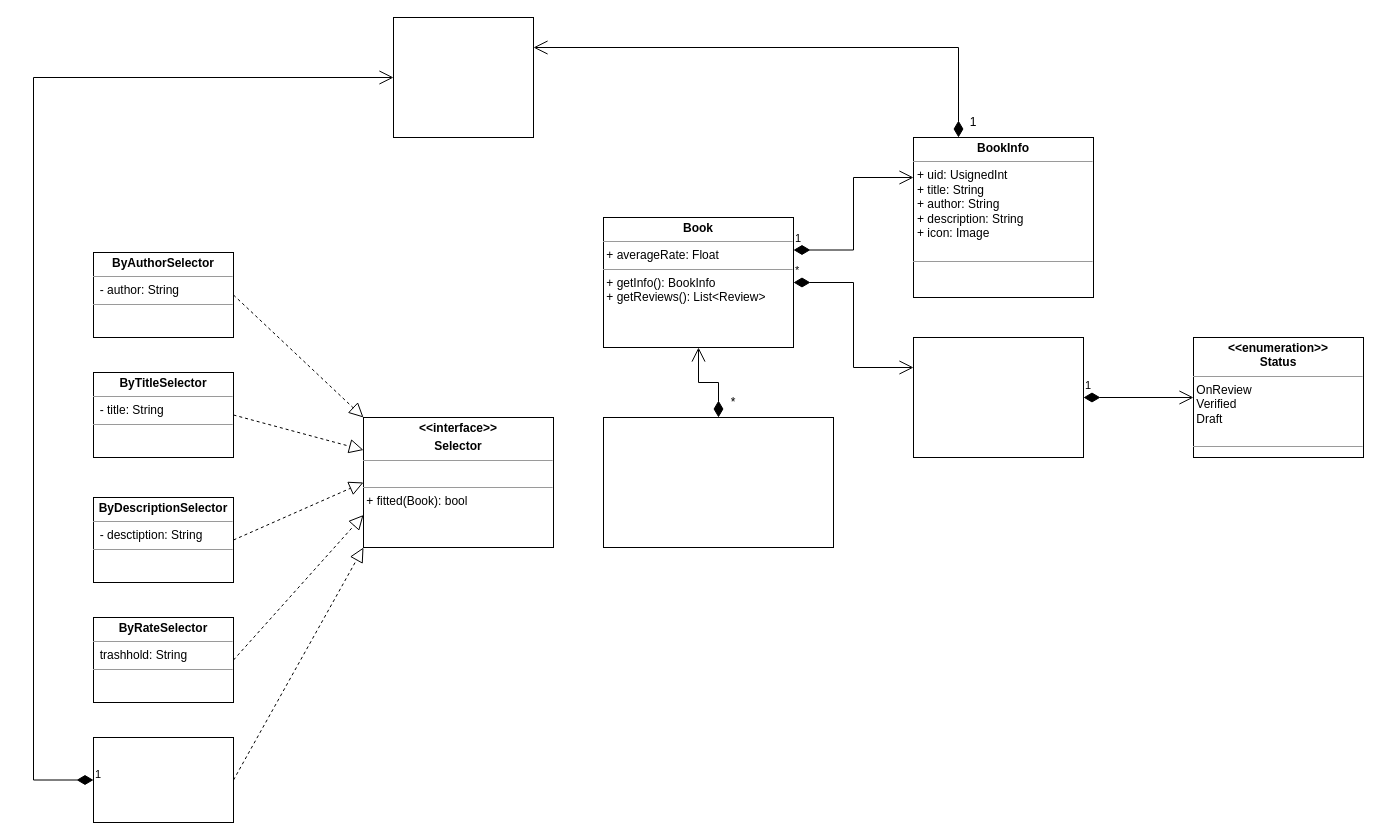
Some shapes in this 1381 by 840 pixel diagram are drawn without their labels. Here are the shapes that lost their labels. From the top down, the box of each, then its label:
(392, 16, 534, 138): <<enumeration>> Genre Thriller Comedy ....
(912, 336, 1084, 458): Review + author: User + text: String + rate: Short
(602, 416, 834, 548): Catalog + searchBy(List<Selector>): List<Book>
(92, 736, 234, 822): ByGenreSelector
